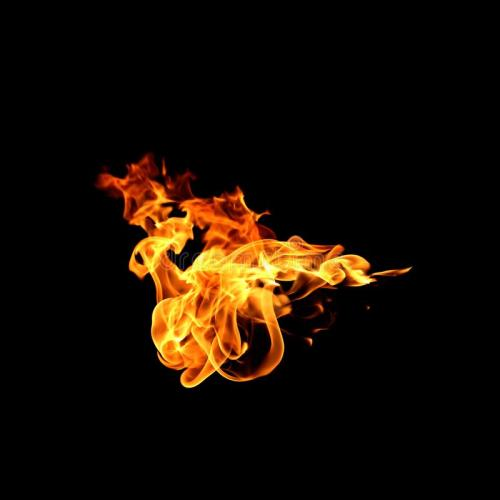fire: (120, 172, 364, 371)
